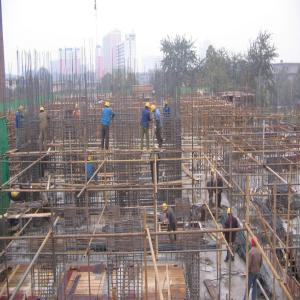red: (251, 236, 260, 250)
yellow: (162, 202, 169, 214), (228, 207, 234, 218), (145, 102, 151, 112), (151, 104, 157, 114), (40, 106, 46, 115), (105, 102, 111, 111), (88, 156, 94, 165), (163, 99, 169, 108), (19, 105, 24, 114), (75, 104, 80, 112), (212, 168, 216, 176)
